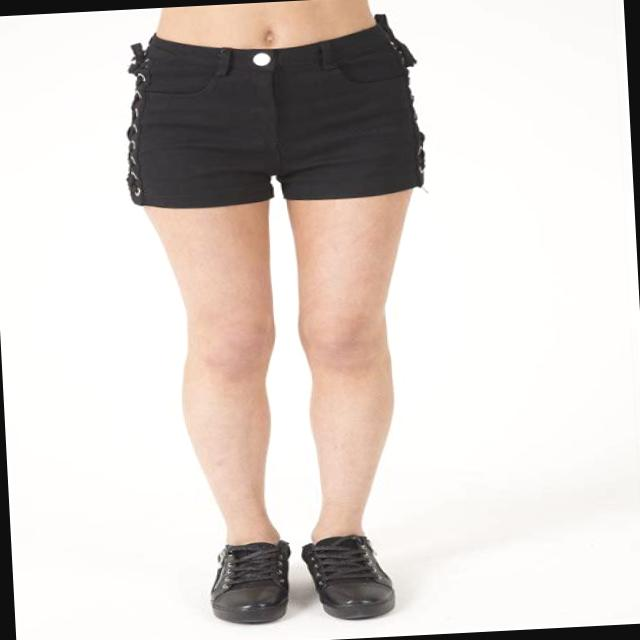short: (116, 12, 430, 210)
